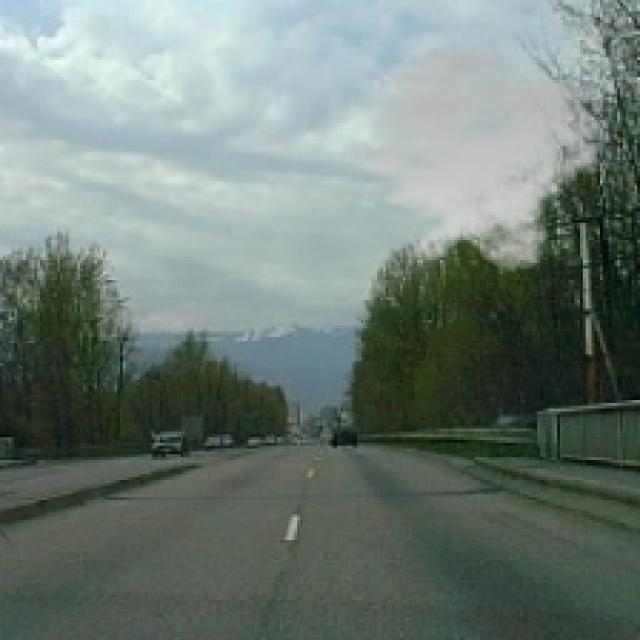smoke: (334, 43, 614, 274)
